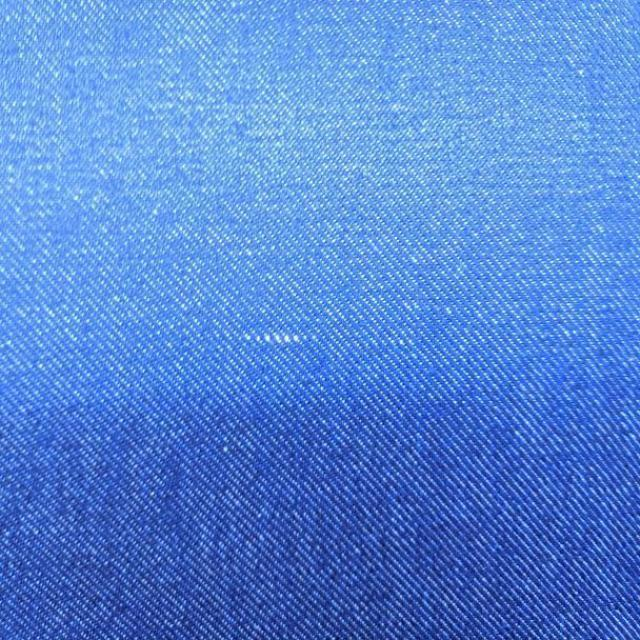Knot: (244, 332, 317, 347)
